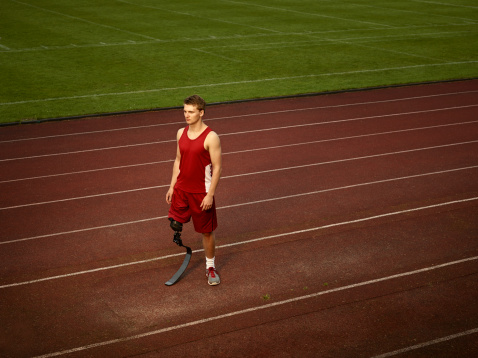em pe: (158, 88, 228, 303)
